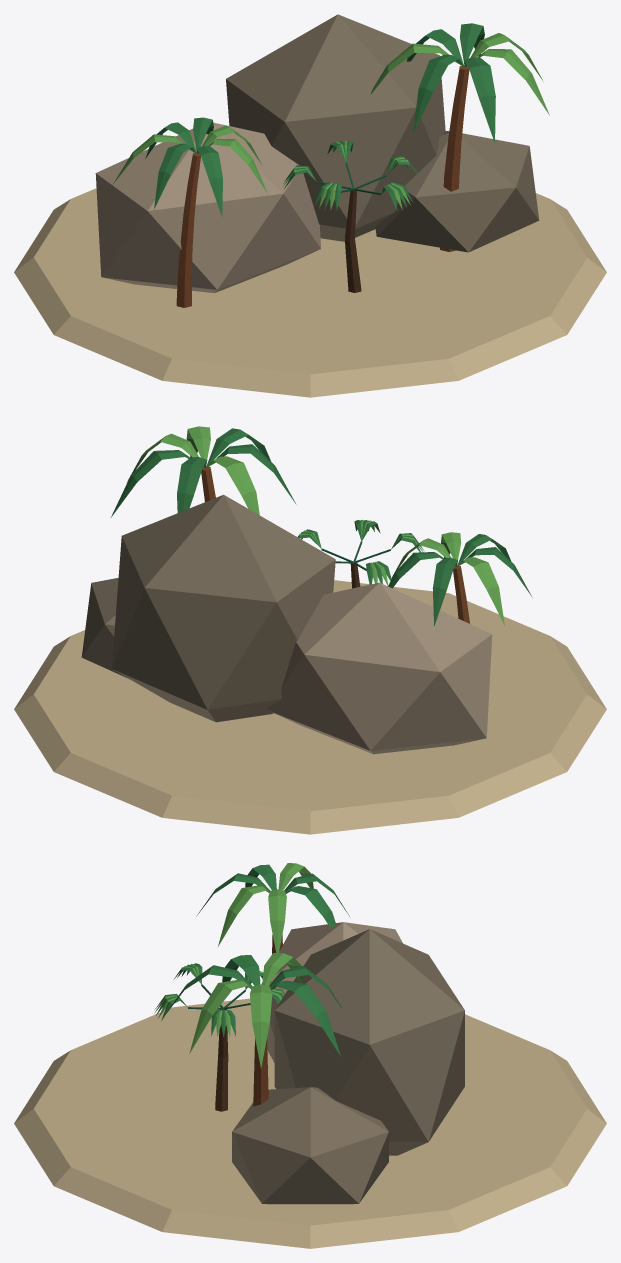
Rendered from Tropical_IslandBackdrop_Simple.glb.
The picture shows the model from 3 angles, top to bottom: view 1: azimuth 30°, elevation 25°; view 2: azimuth 150°, elevation 25°; view 3: azimuth 270°, elevation 25°; orthographic projection.
Visible parts, largest first — view 1: Tropical_IslandBackdrop_Simple; view 2: Tropical_IslandBackdrop_Simple; view 3: Tropical_IslandBackdrop_Simple.
Part boxes in pixels (x1,y1,x2,y2): Tropical_IslandBackdrop_Simple: [14, 14, 606, 397]; Tropical_IslandBackdrop_Simple: [14, 426, 606, 834]; Tropical_IslandBackdrop_Simple: [14, 863, 606, 1248].
Bounding box in the file's own units: 18 × 8.1 × 18.
